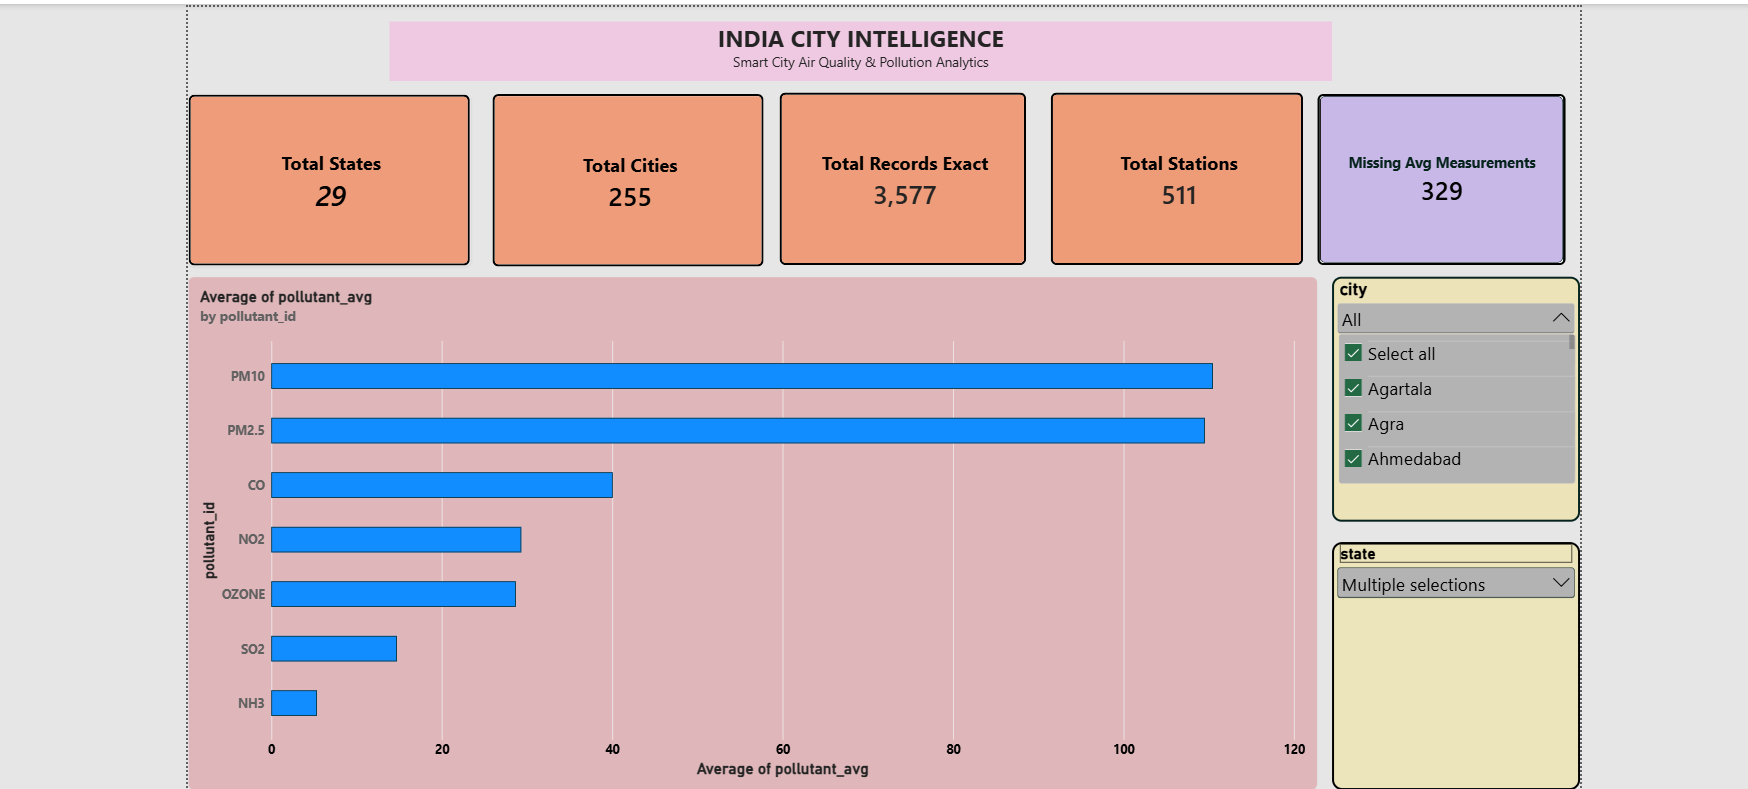

The dashboard page shown, as its layout file describes it:
{"tool":"powerbi","page":{"name":"Main Dashboard","canvas":[1920,1080],"ordinal":0},"visuals":[{"type":"cardVisual","fields":{"Data":["aqi_cleaned.Total States"]},"box":[0,120,390,238],"z":0},{"type":"cardVisual","fields":{"Data":["aqi_cleaned.Total Cities"]},"box":[420,120,374,238],"z":1},{"type":"cardVisual","fields":{"Data":["aqi_cleaned.Total Stations"]},"box":[1190,118,348,238],"z":3},{"type":"cardVisual","fields":{"Data":["aqi_cleaned.Total Records Exact"]},"box":[816,118,340,238],"z":4},{"type":"clusteredBarChart","fields":{"Category":["aqi_cleaned.pollutant_id"],"Y":["Avg(aqi_cleaned.pollutant_avg)"]},"box":[0,372,1558,708],"z":5},{"type":"slicer","fields":{"Values":["aqi_cleaned.state"]},"box":[1578,738,342,342],"z":6},{"type":"slicer","fields":{"Values":["aqi_cleaned.city"]},"box":[1578,372,342,338],"z":7},{"type":"cardVisual","fields":{"Data":["aqi_cleaned.Missing Avg Measurements"]},"box":[1558,120,342,236],"z":8},{"type":"textbox","box":[278,20,1300,82],"z":9}]}

Visuals, with their boxes in screenshot pixels (x1, y1, x2, y2):
cardVisual - aqi_cleaned.Total States: x1=196 y1=86 x2=476 y2=257
cardVisual - aqi_cleaned.Total Cities: x1=498 y1=86 x2=767 y2=257
cardVisual - aqi_cleaned.Total Stations: x1=1051 y1=85 x2=1302 y2=256
cardVisual - aqi_cleaned.Total Records Exact: x1=783 y1=85 x2=1027 y2=256
clusteredBarChart - aqi_cleaned.pollutant_id x Avg(aqi_cleaned.pollutant_avg): x1=196 y1=268 x2=1316 y2=777
slicer - aqi_cleaned.state: x1=1330 y1=531 x2=1576 y2=777
slicer - aqi_cleaned.city: x1=1330 y1=268 x2=1576 y2=511
cardVisual - aqi_cleaned.Missing Avg Measurements: x1=1316 y1=86 x2=1562 y2=256
textbox: x1=396 y1=14 x2=1330 y2=73
